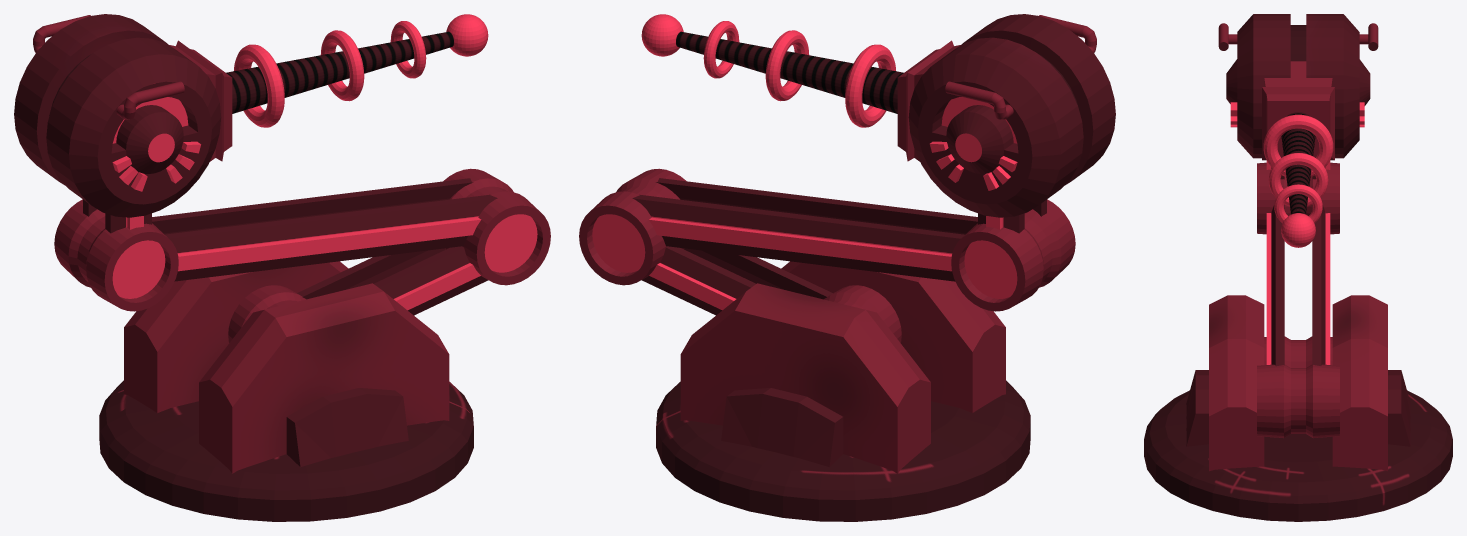
The model's file is tower_railgun_invalid.obj.
The picture shows the model from 3 angles, left to right: view 1: azimuth 30°, elevation 25°; view 2: azimuth 150°, elevation 25°; view 3: azimuth 270°, elevation 25°; orthographic projection. The views are drawn at different scales.
Parts seen in each view (by area): view 1: Cylinder.005_Cylinder.008; view 2: Cylinder.005_Cylinder.008; view 3: Cylinder.005_Cylinder.008.
Boxes of the visible parts, bbox=[...] form: Cylinder.005_Cylinder.008: bbox=[14, 14, 550, 521]; Cylinder.005_Cylinder.008: bbox=[579, 14, 1115, 521]; Cylinder.005_Cylinder.008: bbox=[1144, 14, 1452, 521].
Size of the model in its own units: 6.19 by 5.45 by 4.14.
1 material, 1 textured.
